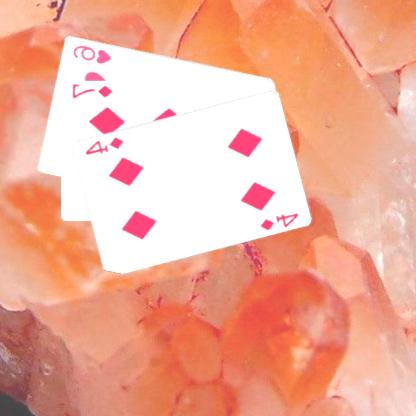4D: (84, 134, 126, 156), (259, 210, 301, 232)
6H: (72, 42, 114, 65)
7D: (71, 83, 115, 99)
